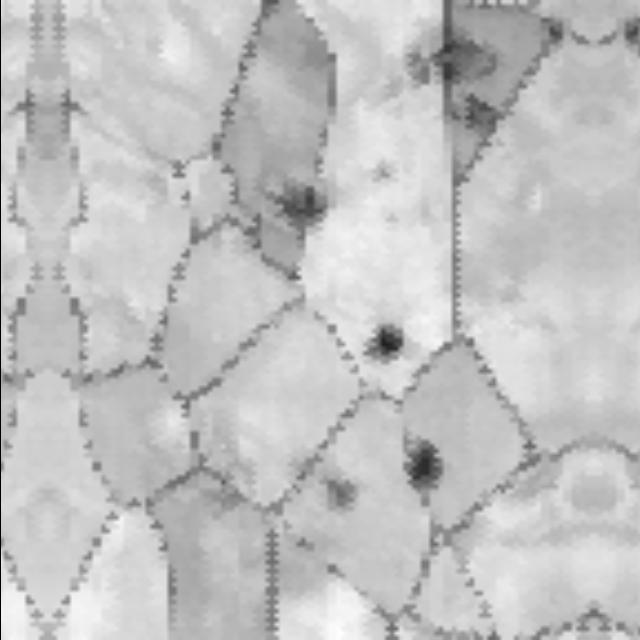good_void: (400, 30, 498, 86), (398, 436, 452, 498), (270, 173, 323, 226), (457, 90, 505, 137), (325, 475, 364, 518), (370, 323, 409, 359), (373, 161, 397, 188)
